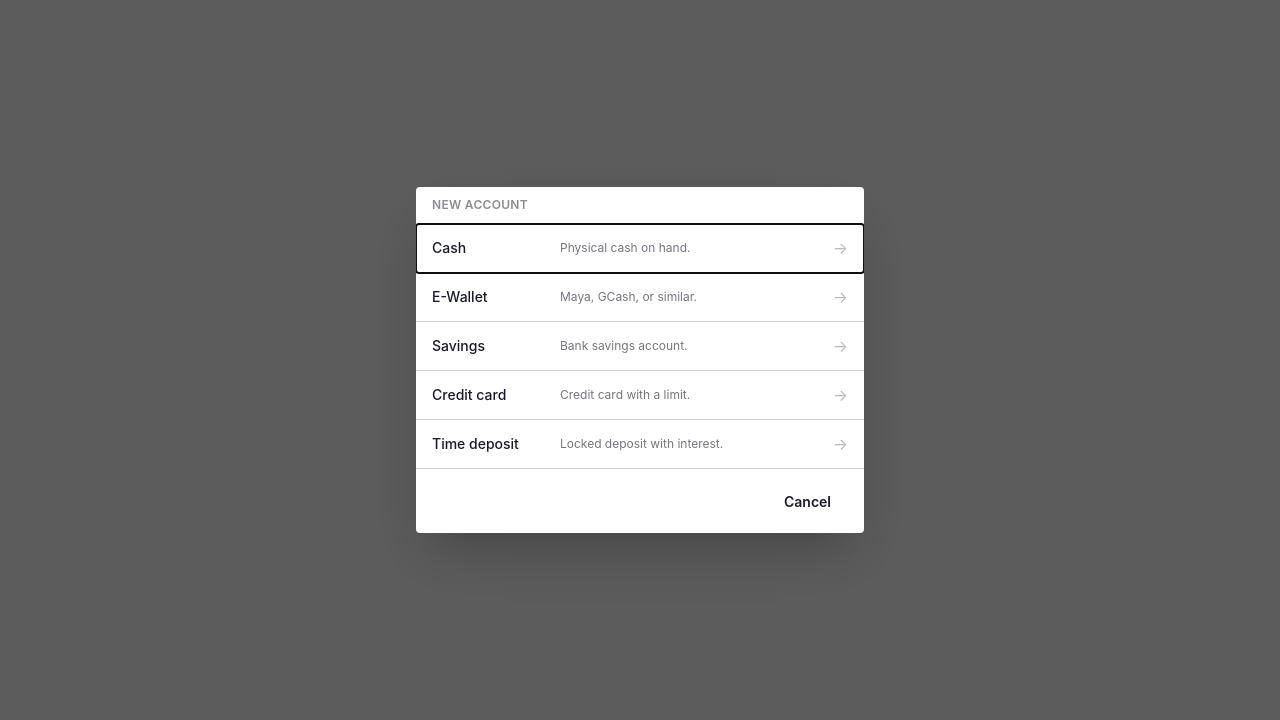
Test: NewAccountModal — type picker › reveals time-deposit fields after picking Time deposit
Click the button "Time deposit Locked deposit with interest. →" at (640, 444), box [416,420,864,468]
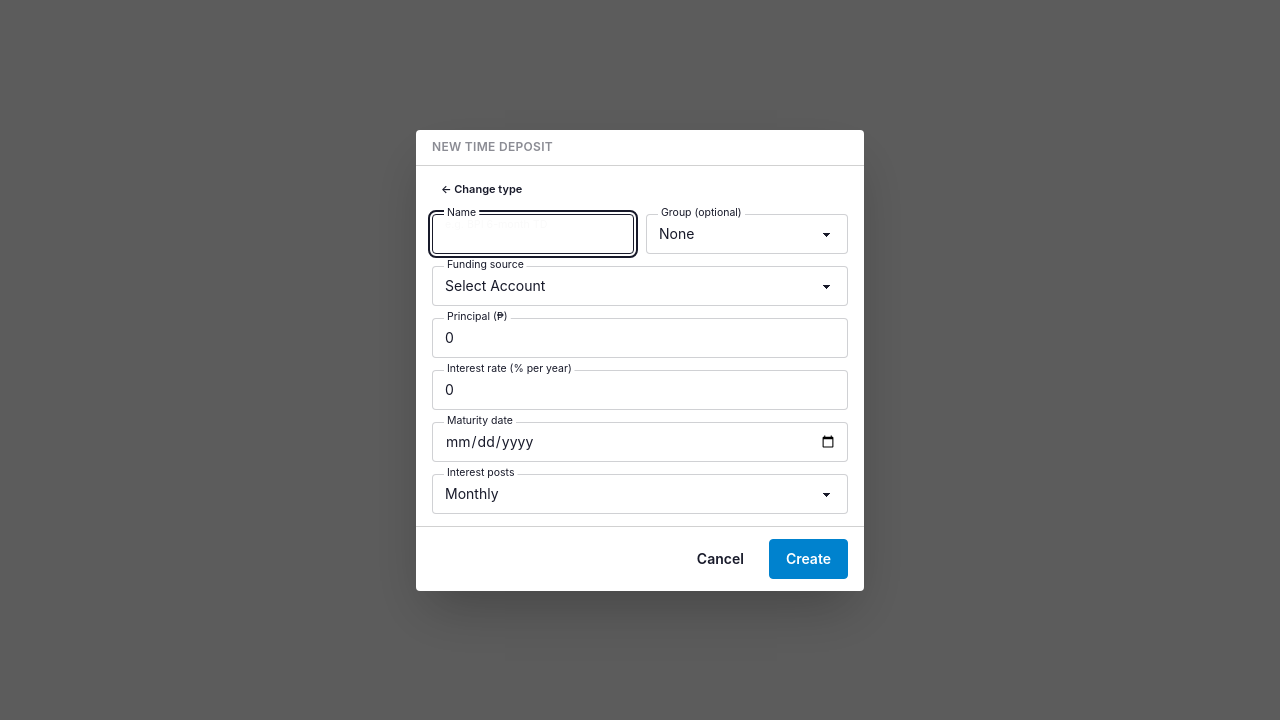
Check: the number field labelled "Principal (₱)" is shown, box [432,318,848,358]
Check: the number field labelled "Interest rate (% per year)" is shown, box [432,370,848,410]
Check: the date field labelled "Maturity date" is shown, box [432,422,848,462]
